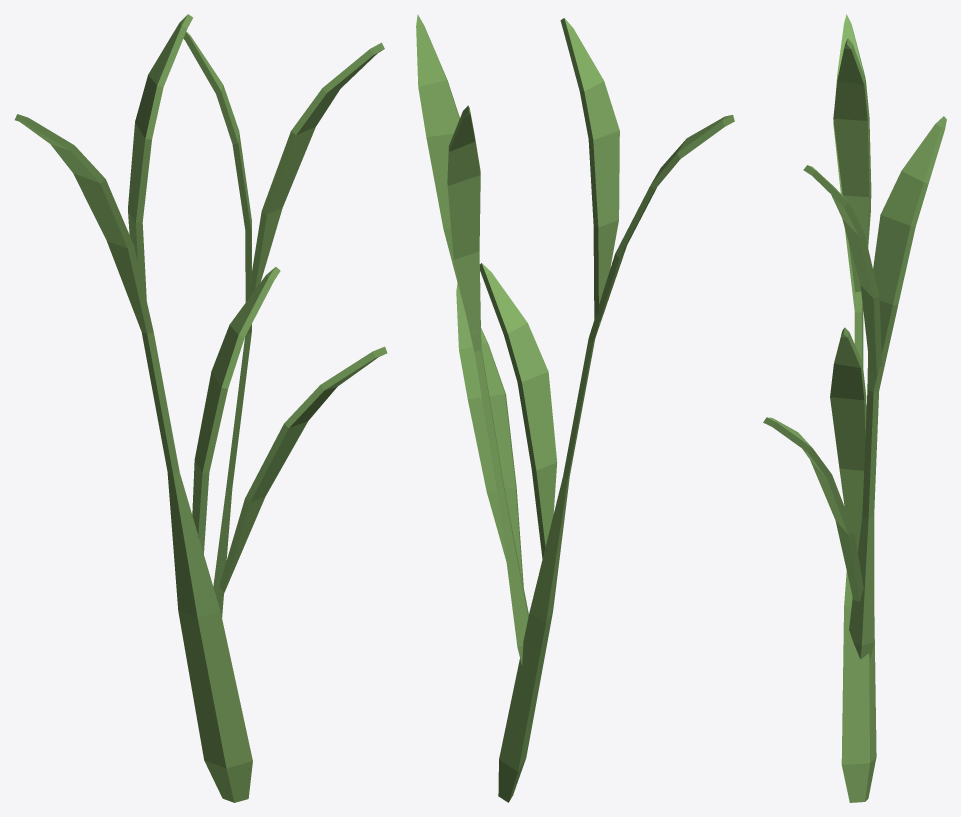
Rendered from Rice_2.glb.
3 renders of one model, left to right at view 1: azimuth 30°, elevation 25°; view 2: azimuth 150°, elevation 25°; view 3: azimuth 270°, elevation 25°, orthographic. The views are drawn at different scales.
Visible parts, largest first — view 1: Rice_2; view 2: Rice_2; view 3: Rice_2.
Boxes of the visible parts, <box> form: Rice_2: <box>14,14,387,802</box>; Rice_2: <box>416,14,734,802</box>; Rice_2: <box>763,14,946,802</box>.
Size of the model in its own units: 0.2547 by 0.5648 by 0.1272.
